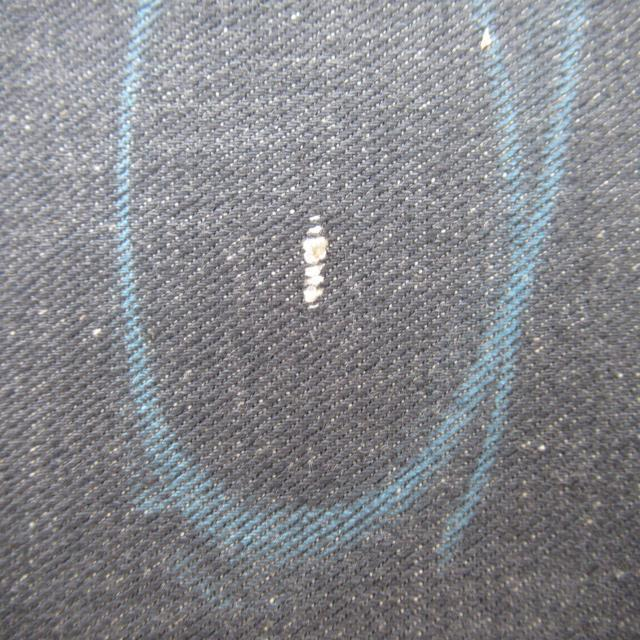pulled_or_thick_thread: (302, 203, 334, 321)
